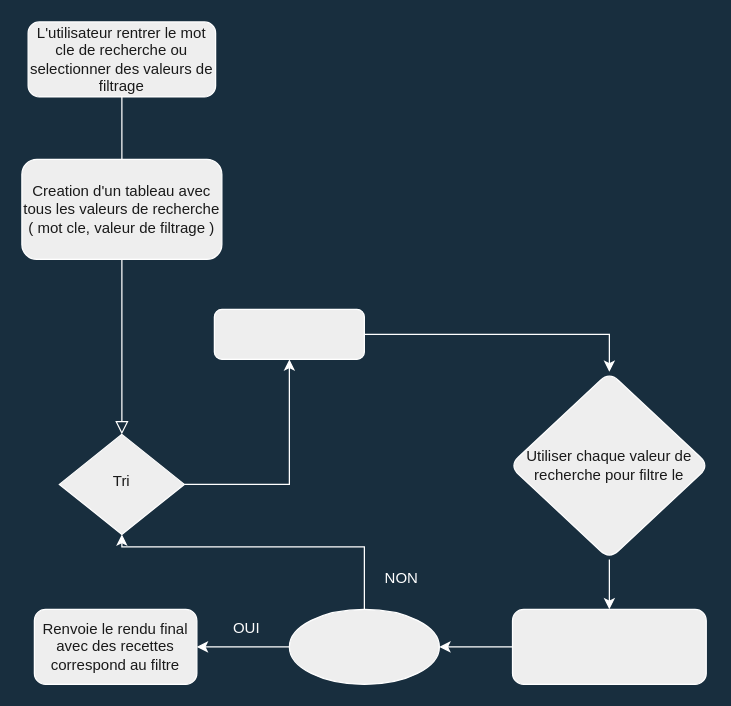
The diagram is 731 pixels wide and 706 high, and some of its shapes have lost their labels. Here are the shapes that lost their labels. From the top down, the centre of each, then its label:
At point (288, 333): "Pour chaque recette".
At point (363, 646): "Tous les cles de tri ont ete utiliser".
At point (608, 646): "Recuperation du tableau avec toutes les donnees des recettes".
